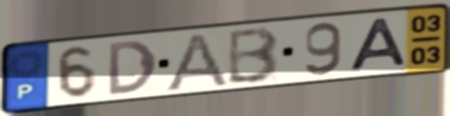6: (56, 44, 100, 100)
9: (303, 20, 344, 79)
A: (161, 30, 232, 94), (345, 16, 411, 73)
B: (225, 25, 282, 86)
D: (106, 38, 160, 98)
